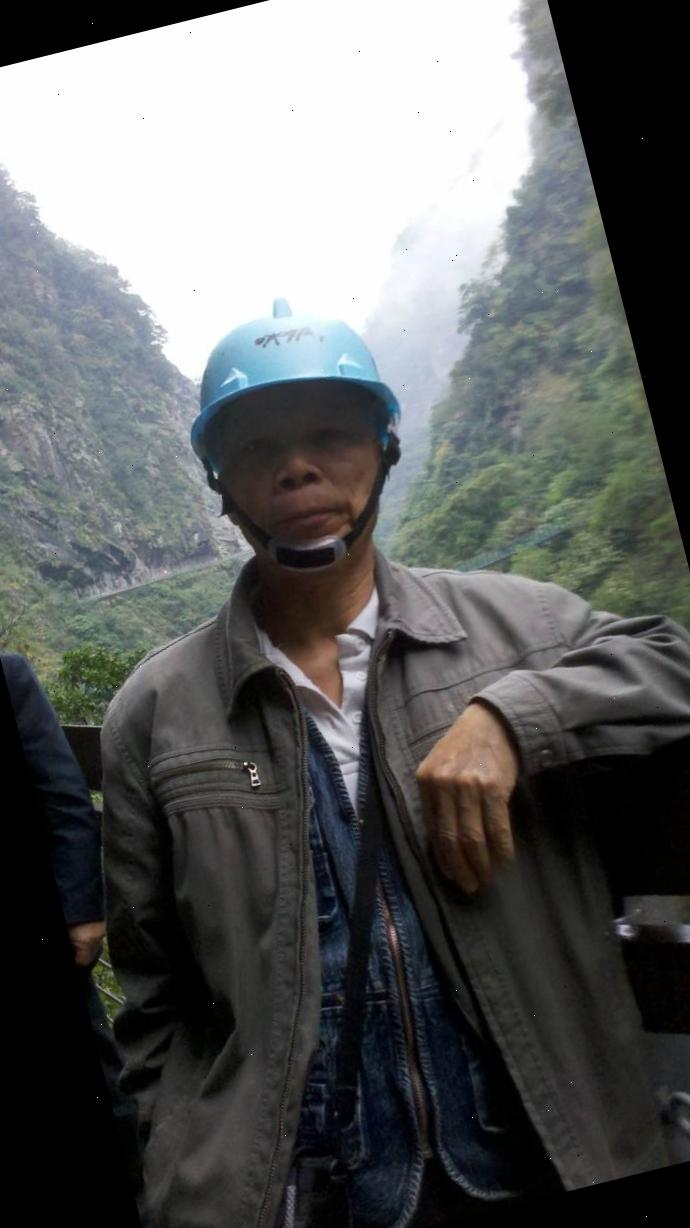helmet: (165, 282, 398, 448)
no_wear: (84, 559, 680, 1228)
